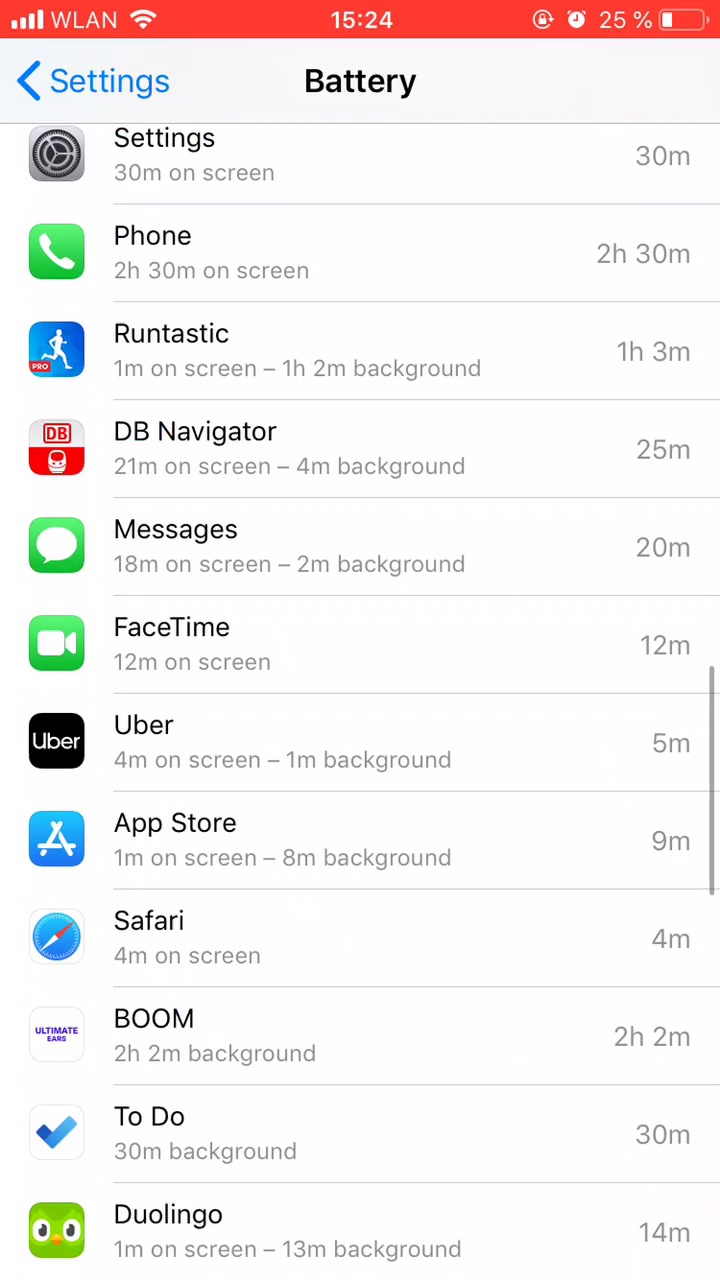app: (24, 212, 700, 289), (25, 312, 701, 389), (21, 406, 697, 483), (24, 506, 700, 583), (30, 604, 706, 681), (26, 703, 702, 780), (24, 799, 700, 876), (30, 900, 706, 977), (30, 999, 706, 1076), (27, 1094, 703, 1171), (24, 1189, 700, 1266)
